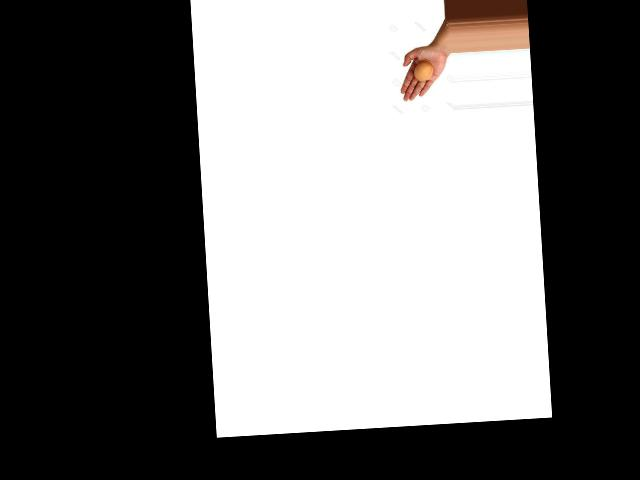egg: (413, 60, 434, 81)
